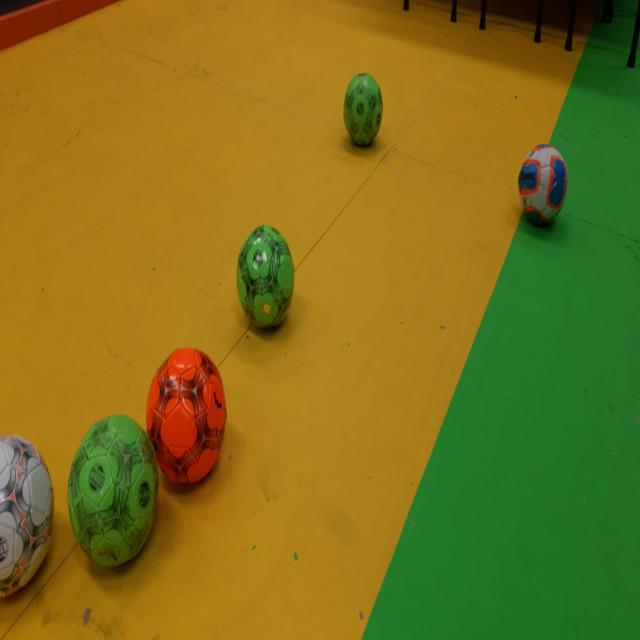ball: (67, 414, 157, 568), (146, 348, 227, 487), (0, 436, 56, 600), (236, 223, 295, 328), (517, 143, 569, 229), (343, 72, 383, 148)
